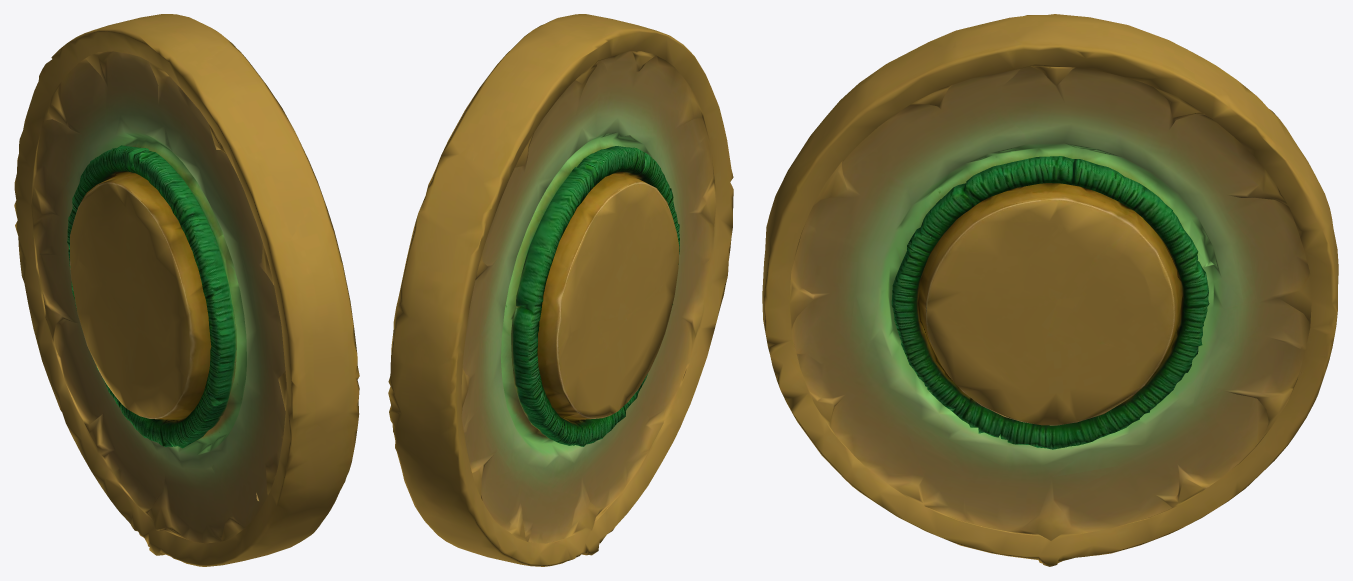
Rendered from kimaya_chakram.glb.
3 views of the same model, side by side, from view 1: azimuth 30°, elevation 25°; view 2: azimuth 150°, elevation 25°; view 3: azimuth 270°, elevation 25° (orthographic). The views are drawn at different scales.
Parts seen in each view (by area): view 1: tripo_node_029bcd0c-d3b7-4f78-bf92-7c80be79990e; view 2: tripo_node_029bcd0c-d3b7-4f78-bf92-7c80be79990e; view 3: tripo_node_029bcd0c-d3b7-4f78-bf92-7c80be79990e.
Boxes of the visible parts, box(x1,y1,x2,y2) form: tripo_node_029bcd0c-d3b7-4f78-bf92-7c80be79990e: box(14, 14, 359, 566); tripo_node_029bcd0c-d3b7-4f78-bf92-7c80be79990e: box(388, 14, 733, 566); tripo_node_029bcd0c-d3b7-4f78-bf92-7c80be79990e: box(762, 14, 1338, 566).
Size of the model in its own units: 0.2438 by 1 by 0.9938.
Materials: 1 (1 with a texture image).
